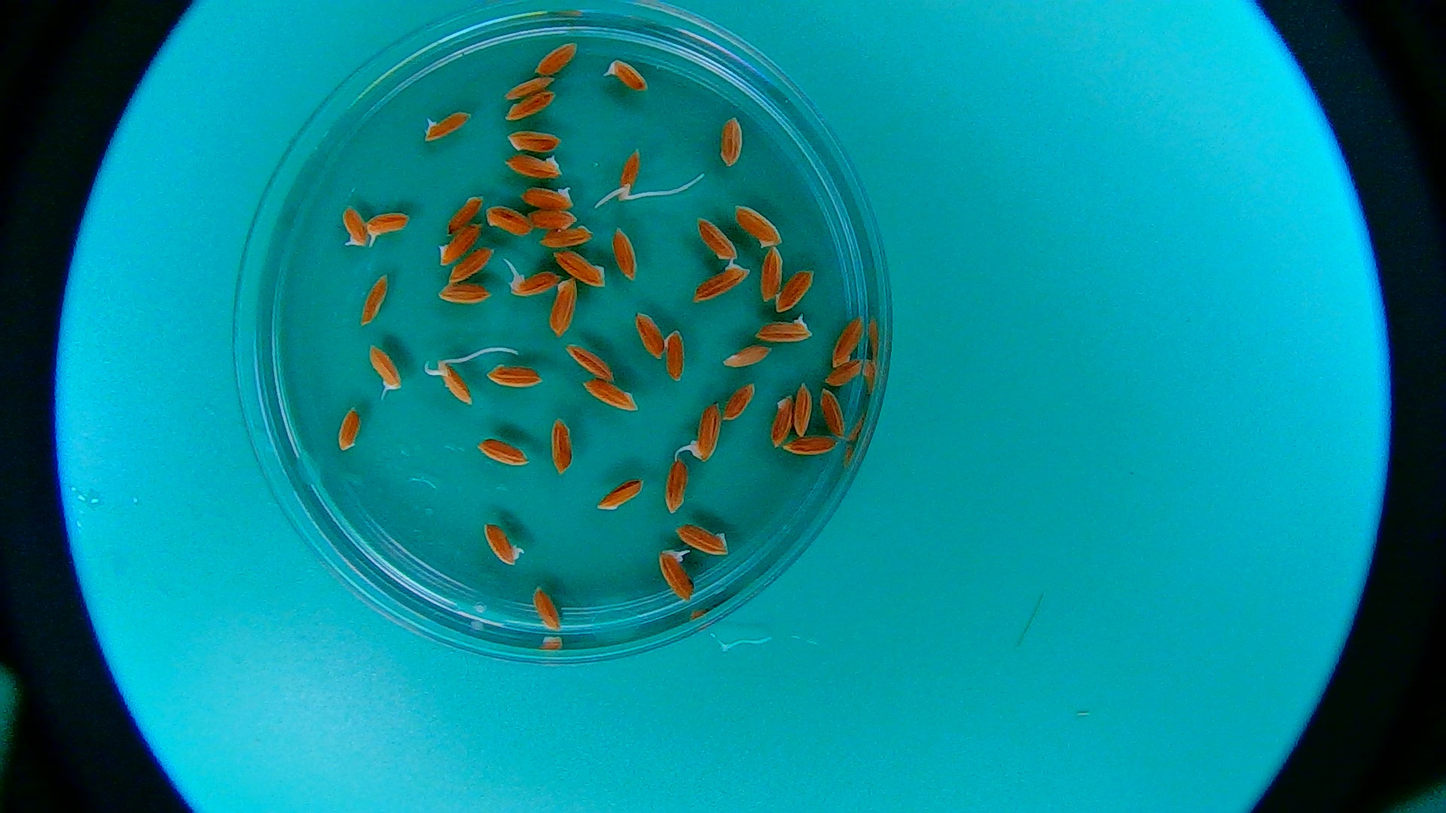no: (581, 375, 645, 416), (563, 340, 618, 385), (734, 200, 783, 249), (551, 248, 608, 288), (674, 519, 731, 558), (591, 477, 648, 514), (547, 416, 581, 477), (828, 314, 865, 370), (438, 221, 484, 266), (474, 434, 532, 469), (697, 213, 740, 260), (773, 268, 816, 313), (358, 274, 391, 330), (549, 276, 578, 339), (449, 247, 496, 285), (817, 387, 850, 439), (504, 152, 563, 181), (519, 181, 574, 212), (505, 91, 558, 122), (633, 309, 664, 362), (484, 204, 532, 238), (447, 193, 484, 237), (533, 40, 579, 75), (485, 360, 542, 388), (610, 227, 639, 282), (754, 315, 813, 342), (531, 586, 563, 635), (721, 381, 759, 422), (718, 114, 746, 169), (664, 328, 691, 383), (536, 224, 595, 249), (526, 205, 578, 233), (504, 75, 557, 102), (507, 129, 561, 155), (438, 281, 493, 306), (666, 461, 690, 516), (779, 434, 839, 456), (721, 344, 774, 368), (822, 358, 865, 387), (792, 381, 813, 439), (761, 246, 782, 303), (337, 406, 363, 452), (770, 393, 792, 447)
yes: (690, 255, 752, 306), (480, 522, 529, 570), (655, 548, 697, 604), (363, 342, 407, 391), (687, 404, 721, 464), (365, 209, 412, 247), (508, 267, 561, 300), (423, 109, 471, 143), (616, 150, 646, 203), (433, 362, 468, 407), (611, 56, 649, 93), (339, 205, 368, 251)
